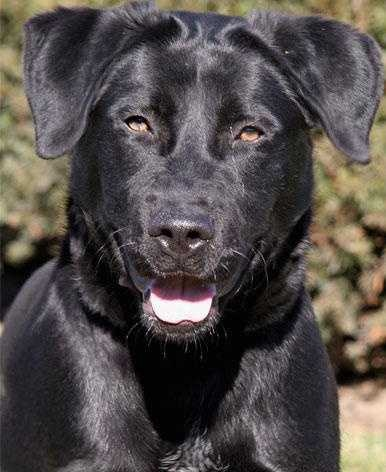Dog: (2, 44, 339, 471)
